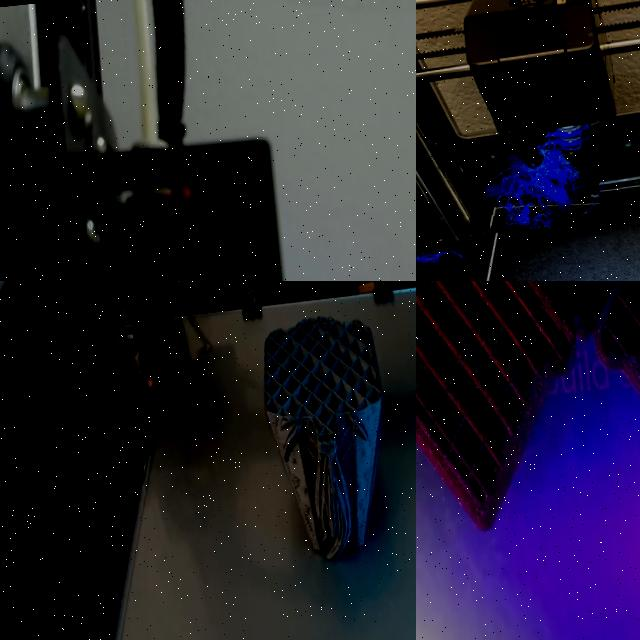spaghetti: (485, 135, 599, 229), (416, 248, 468, 276)
